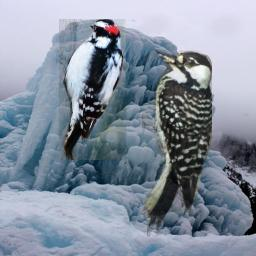Woodpecker: (142, 48, 212, 237), (56, 19, 127, 160)
